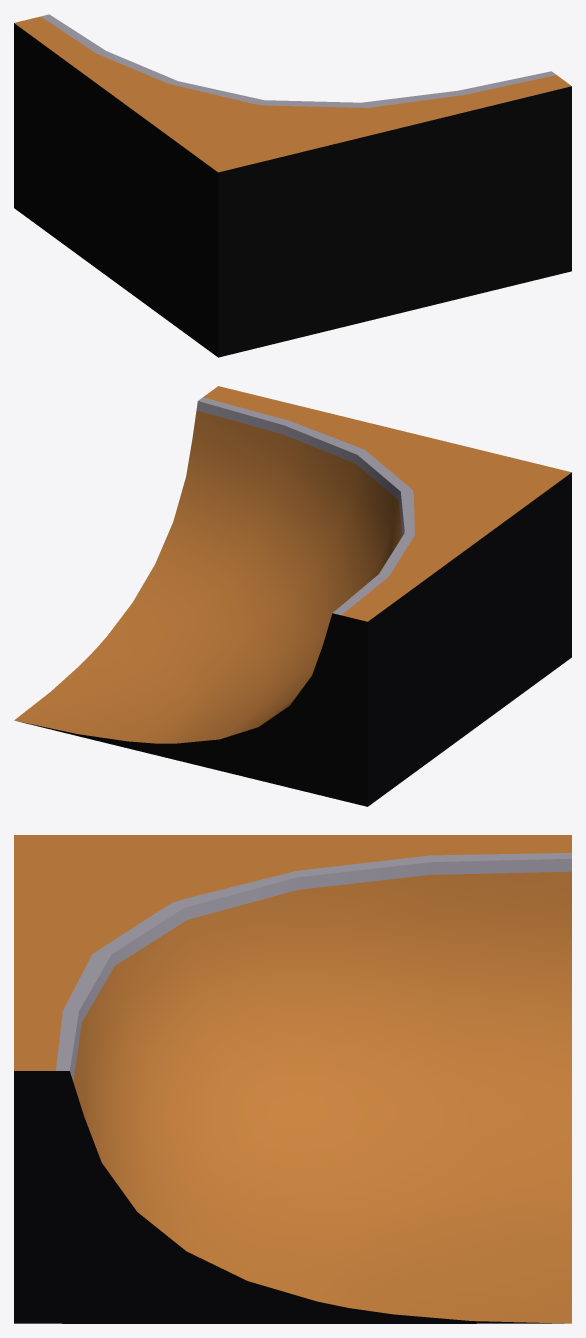
File: Quater_SML_Bowl.obj
3 views of the same model, one above another, from view 1: azimuth 30°, elevation 25°; view 2: azimuth 150°, elevation 25°; view 3: azimuth 270°, elevation 25° (orthographic). The views are drawn at different scales.
Visible parts, largest first — view 1: Quater_SML_Bowl; view 2: Quater_SML_Bowl; view 3: Quater_SML_Bowl.
Boxes of the visible parts, <box> form: Quater_SML_Bowl: <box>14,14,571,357</box>; Quater_SML_Bowl: <box>14,386,571,806</box>; Quater_SML_Bowl: <box>14,835,571,1323</box>.
Size of the model in its own units: 10 by 5 by 10.
